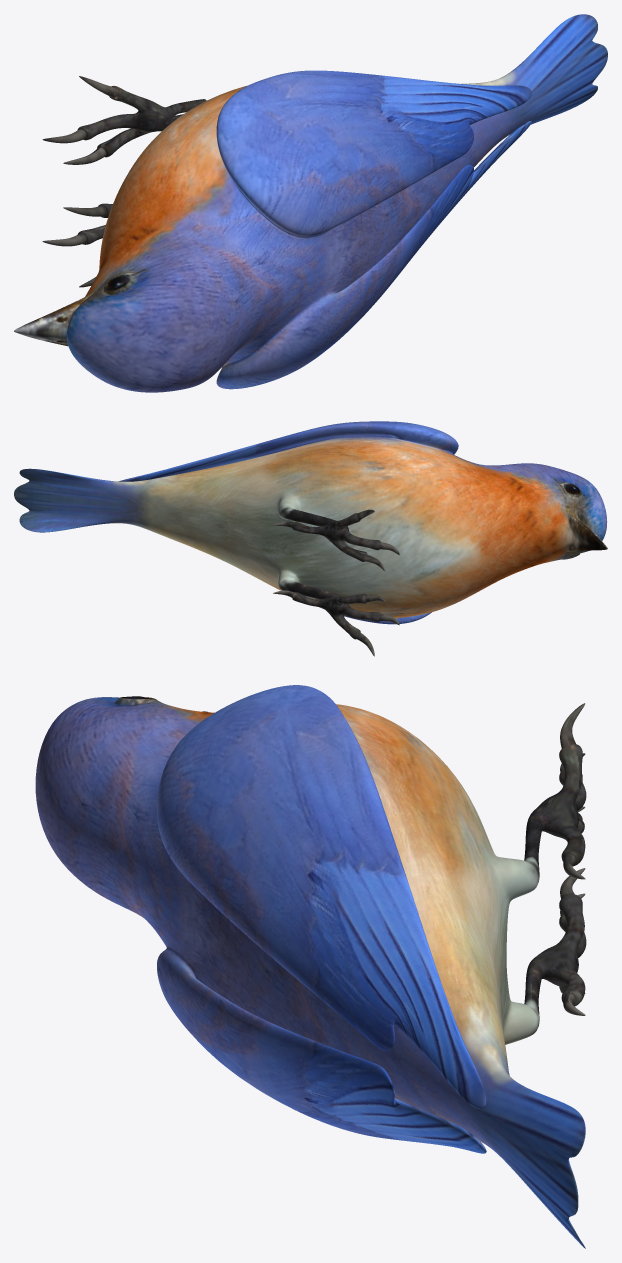
Rendered from bird2.obj.
The picture shows the model from 3 angles, top to bottom: view 1: azimuth 30°, elevation 25°; view 2: azimuth 150°, elevation 25°; view 3: azimuth 270°, elevation 25°; orthographic projection. The views are drawn at different scales.
Parts seen in each view (by area): view 1: 12213_bird; view 2: 12213_bird; view 3: 12213_bird.
Boxes of the visible parts, x1=… form: 12213_bird: x1=14, y1=14, x2=607, y2=392; 12213_bird: x1=14, y1=421, x2=607, y2=656; 12213_bird: x1=35, y1=685, x2=586, y2=1248.
Size of the model in its own units: 16.77 by 6.36 by 7.98.
Materials: 1 (1 with a texture image).
